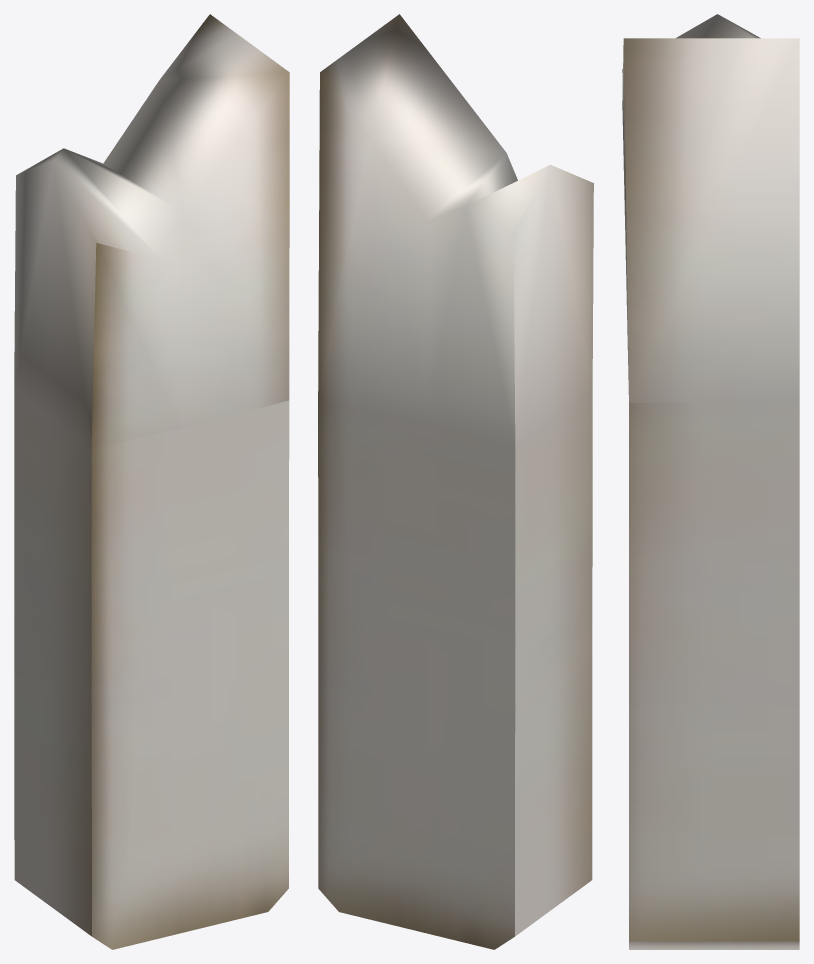
Rendered from Piano_B.fbx.
3 renders of one model, left to right at view 1: azimuth 30°, elevation 25°; view 2: azimuth 150°, elevation 25°; view 3: azimuth 270°, elevation 25°, orthographic. The views are drawn at different scales.
Parts seen in each view (by area): view 1: Piano_B; view 2: Piano_B; view 3: Piano_B.
Part boxes in pixels (x1,y1,x2,y2): Piano_B: (14,14,289,949); Piano_B: (318,14,593,949); Piano_B: (622,14,799,949).
Size of the model in its own units: 23.5 by 95.05 by 16.56.
1 material, 1 textured.
